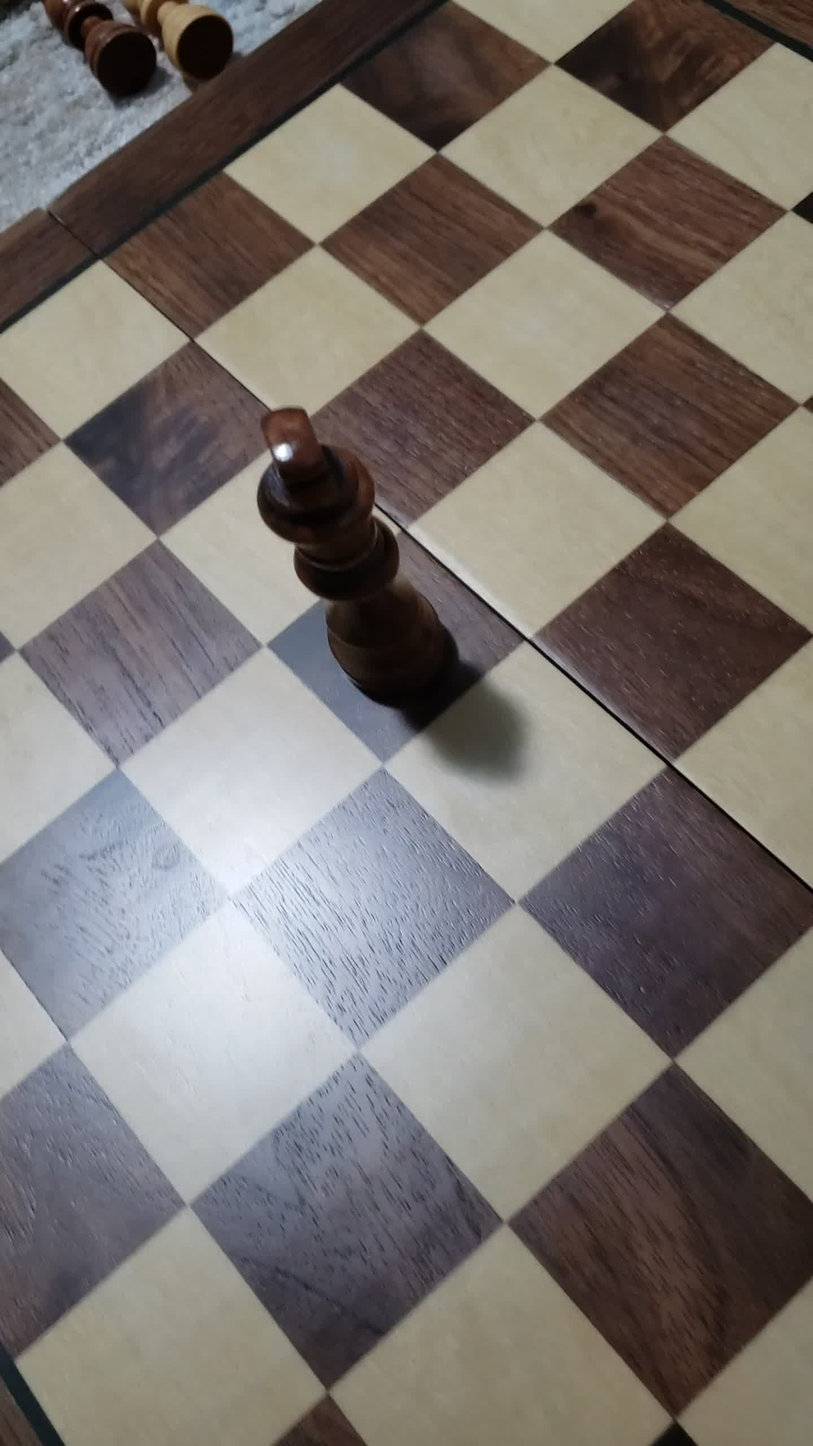black-king: (212, 396, 489, 714)
